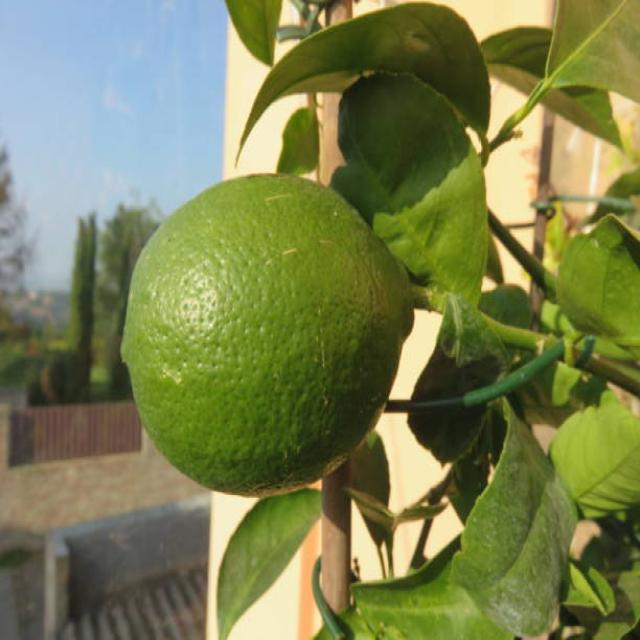Unripe: (119, 171, 415, 498)
